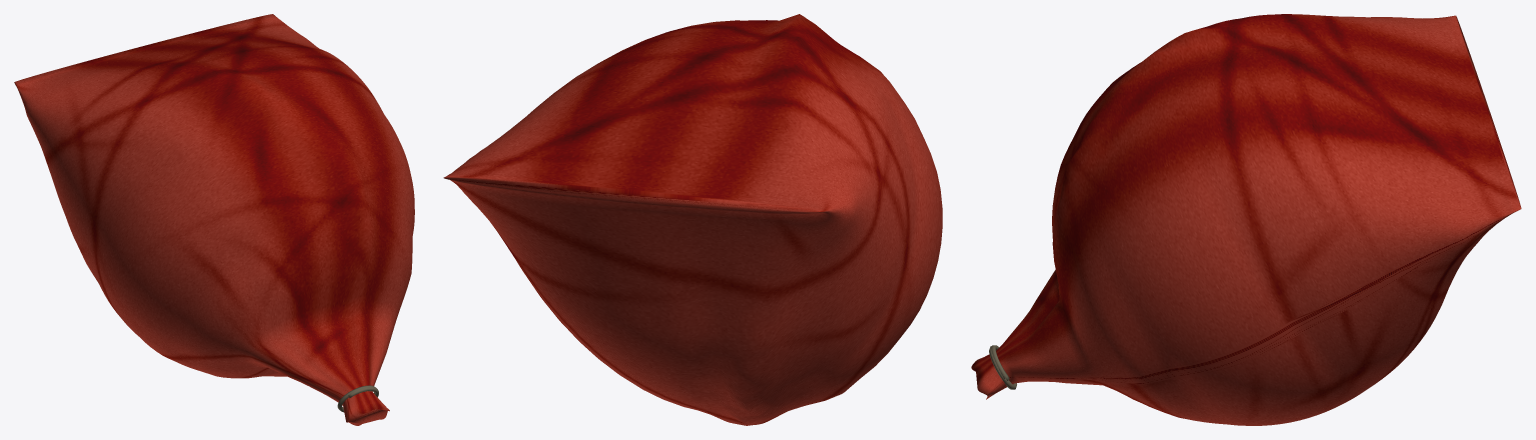
Rendered from peach_00_002.glb.
3 views of the same model, side by side, from view 1: azimuth 30°, elevation 25°; view 2: azimuth 150°, elevation 25°; view 3: azimuth 270°, elevation 25° (orthographic). The views are drawn at different scales.
Visible parts, largest first — view 1: export_Tree00/shoot0_4_1/bag; view 2: export_Tree00/shoot0_4_1/bag; view 3: export_Tree00/shoot0_4_1/bag.
Part boxes in pixels (bbox=[...]): export_Tree00/shoot0_4_1/bag: bbox=[14, 14, 414, 425]; export_Tree00/shoot0_4_1/bag: bbox=[443, 14, 942, 425]; export_Tree00/shoot0_4_1/bag: bbox=[971, 14, 1521, 425].
Size of the model in its own units: 0.0966 by 0.0948 by 0.1259.
Materials: 4 (1 with a texture image).
